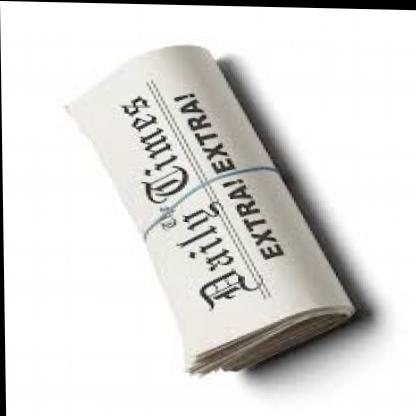Paper: (57, 19, 380, 394)
